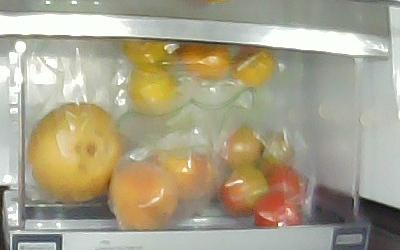peach_vinyl: (110, 165, 176, 230), (156, 151, 217, 198)
pear_vinyl: (27, 102, 124, 199)
tangerine_vinyl: (127, 65, 175, 111), (177, 42, 230, 82), (231, 46, 274, 87), (123, 41, 177, 66)
tomato_vinyl: (220, 165, 269, 216), (251, 193, 302, 229), (258, 132, 294, 176), (266, 166, 304, 207), (225, 127, 261, 169)
